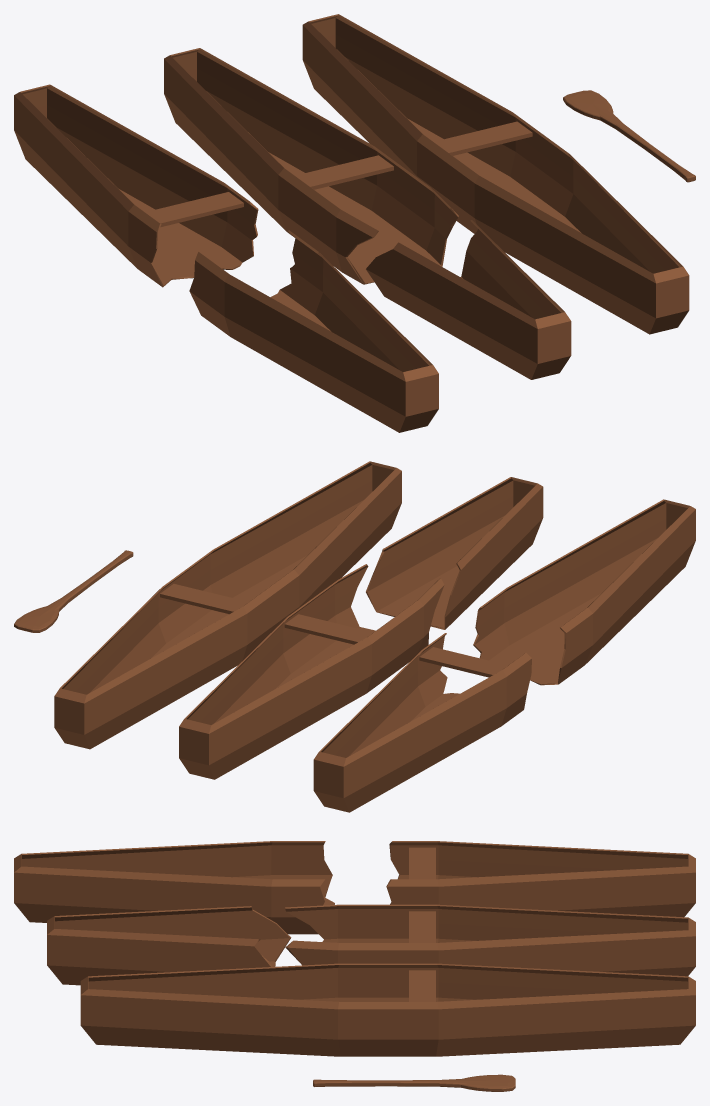
The model's file is Boat.fbx.
3 renders of one model, top to bottom at view 1: azimuth 30°, elevation 25°; view 2: azimuth 150°, elevation 25°; view 3: azimuth 270°, elevation 25°, orthographic. The views are drawn at different scales.
Visible parts, largest first — view 1: BoatWhole, Cube.001, BoatWhole.001, BoatWhole.002, Boat1h2, Cube; view 2: BoatWhole, Cube.001, BoatWhole.002, BoatWhole.001, Boat1h2, Cube; view 3: BoatWhole, Cube.001, BoatWhole.002, BoatWhole.001, Boat1h2, Cube.
Part boxes in pixels (x1,y1,x2,y2): BoatWhole: (302, 14, 689, 334); Cube.001: (164, 48, 458, 284); BoatWhole.001: (14, 84, 258, 287); BoatWhole.002: (189, 230, 438, 432); Boat1h2: (366, 220, 571, 379); Cube: (563, 90, 695, 182); BoatWhole: (54, 461, 401, 749); Cube.001: (179, 564, 444, 779); BoatWhole.002: (473, 499, 695, 685); BoatWhole.001: (313, 633, 531, 812); Boat1h2: (366, 477, 543, 629); Cube: (14, 550, 133, 632); BoatWhole: (80, 963, 695, 1056); Cube.001: (285, 904, 695, 976); BoatWhole.002: (14, 841, 334, 934); BoatWhole.001: (386, 841, 695, 917); Boat1h2: (47, 906, 291, 985); Cube: (313, 1074, 515, 1091).
Bounding box in the file's own units: 1014 × 127 × 1355.
